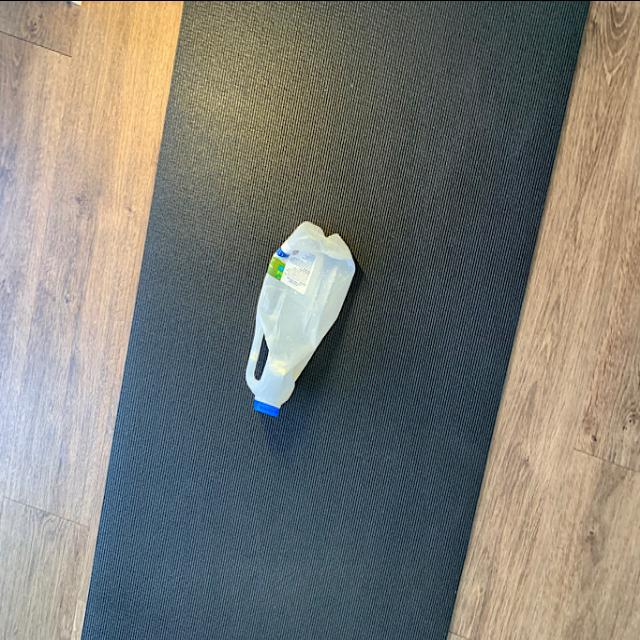litter: (242, 215, 362, 420)
